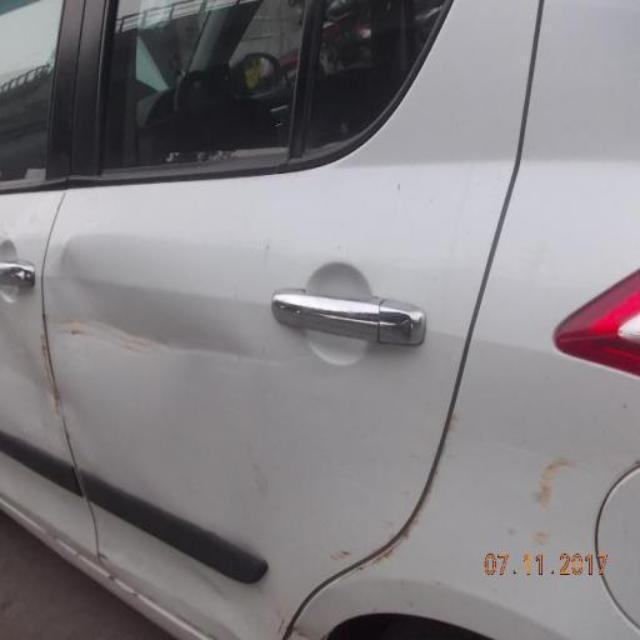dent: (51, 242, 233, 366), (2, 321, 54, 447)
